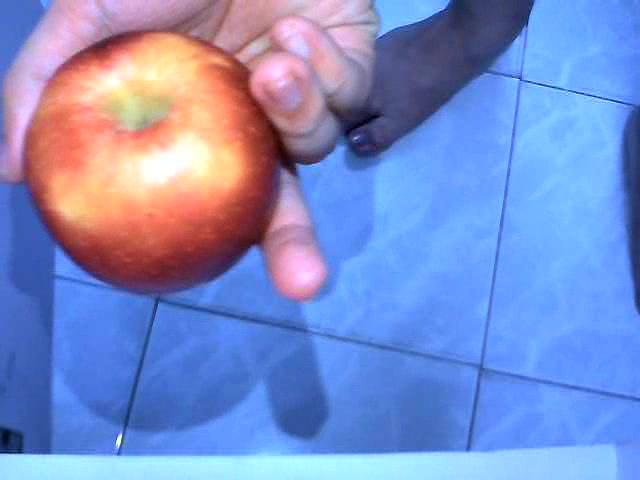apple: (26, 31, 283, 293)
